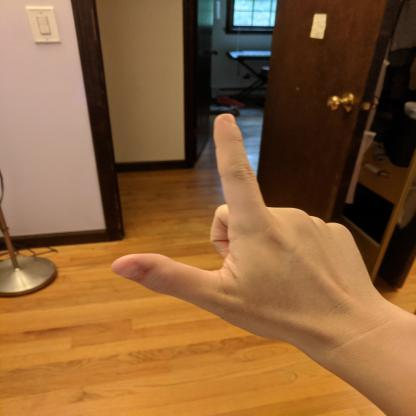L: (104, 110, 386, 353)
